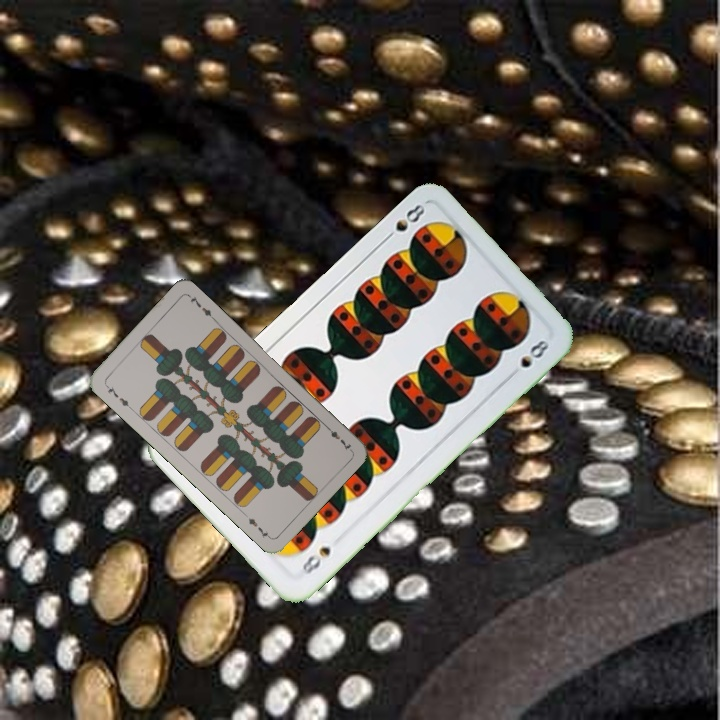E7: (101, 380, 134, 412), (321, 421, 354, 453)
S8: (379, 197, 428, 245), (292, 542, 334, 581)
